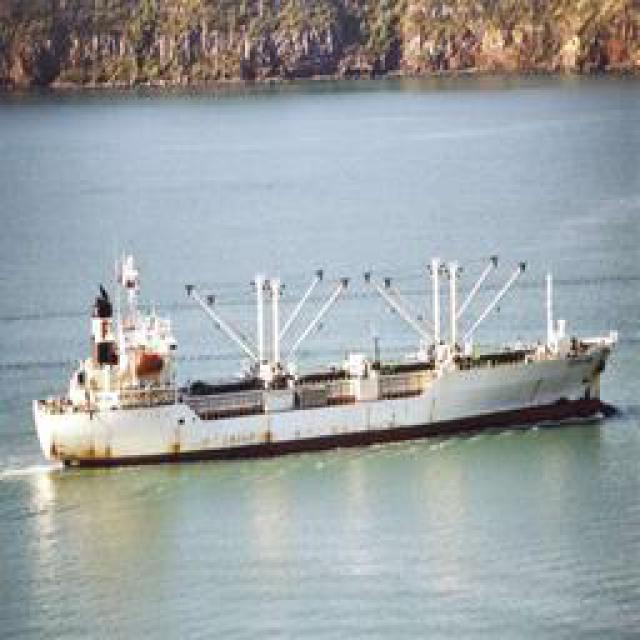Ship: (26, 244, 621, 474)
